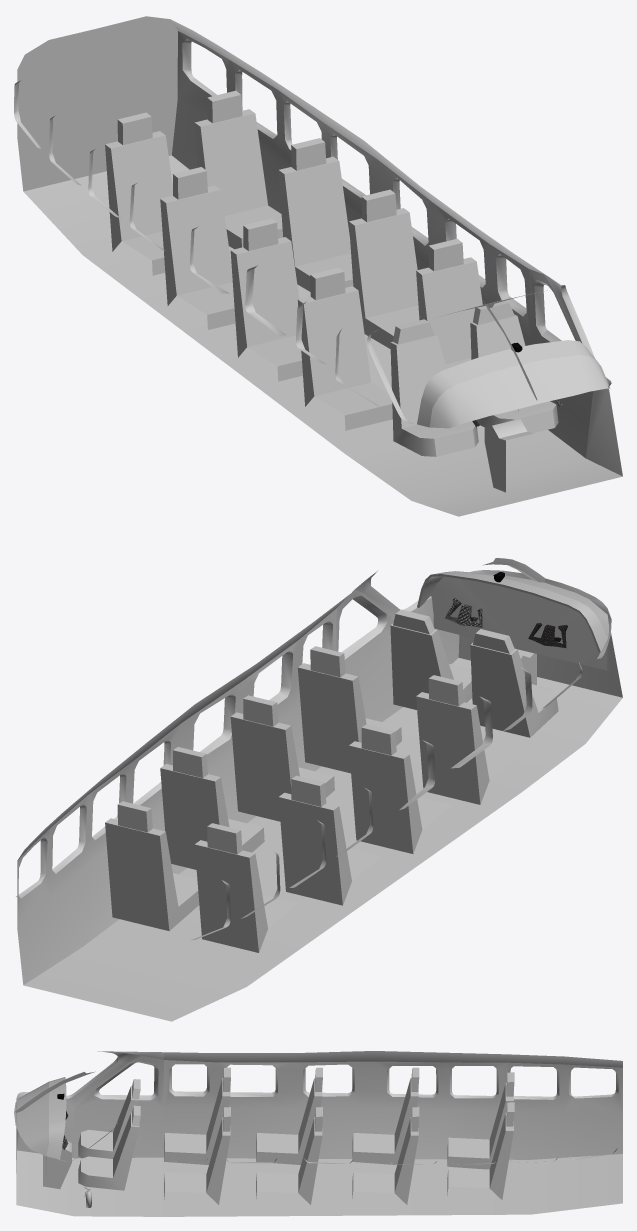
File: 208B_GRAND_CARAVAN_EX_INTERIOR_LOD04.gltf
3 views of the same model, one above another, from view 1: azimuth 30°, elevation 25°; view 2: azimuth 150°, elevation 25°; view 3: azimuth 270°, elevation 25° (orthographic). The views are drawn at different scales.
Visible parts, largest first — view 1: MAIN_PANEL; view 2: MAIN_PANEL; view 3: MAIN_PANEL.
Boxes of the visible parts, x1=… form: MAIN_PANEL: x1=14, y1=16, x2=622, y2=516; MAIN_PANEL: x1=16, y1=558, x2=622, y2=1021; MAIN_PANEL: x1=14, y1=1051, x2=622, y2=1216.
Size of the model in its own units: 1.77 by 1.36 by 6.42.
